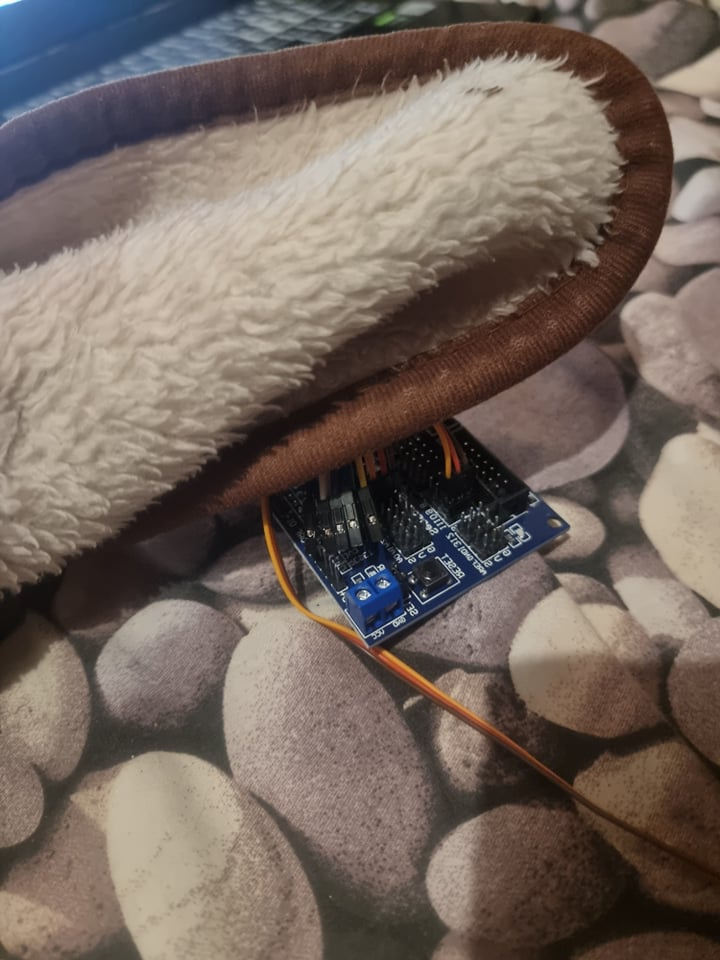5V EXPANSION: (267, 405, 569, 651)
